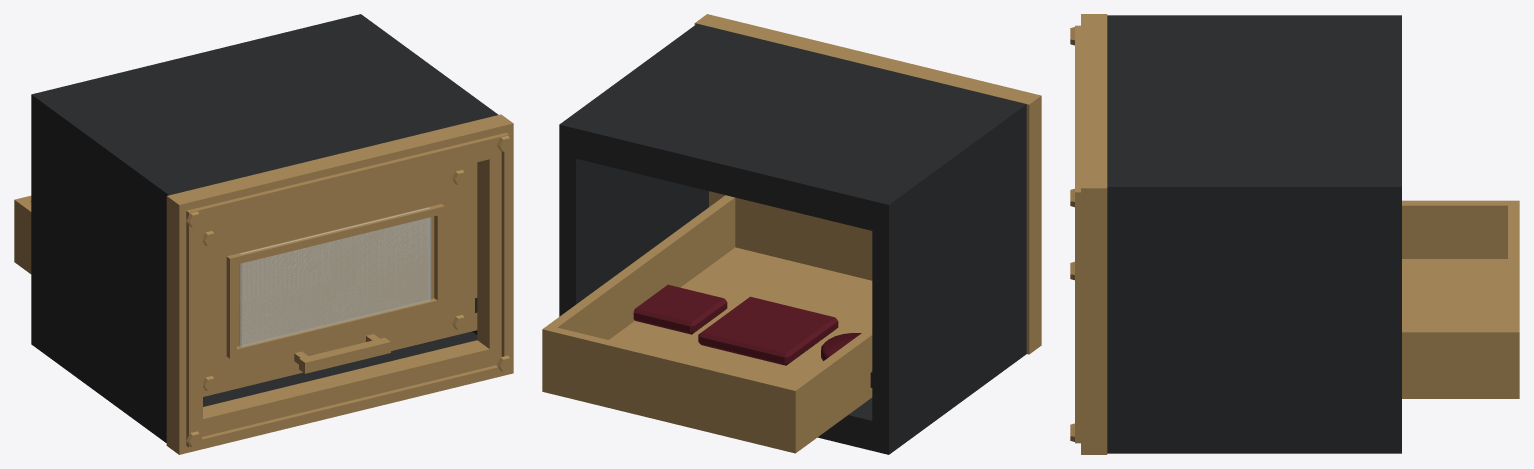
Rendered from heart_drawer.glb.
3 renders of one model, left to right at view 1: azimuth 30°, elevation 25°; view 2: azimuth 150°, elevation 25°; view 3: azimuth 270°, elevation 25°, orthographic. The views are drawn at different scales.
Visible parts, largest first — view 1: heart_housing, IA_heart_drawer, drawer_face; view 2: heart_housing, IA_heart_drawer, IA_heart_letter, IA_heart_pawl, IA_heart_watch; view 3: heart_housing, IA_heart_drawer.
Boxes of the visible parts, x1,y1,x2,y2 form: heart_housing: (31, 14, 513, 454); IA_heart_drawer: (14, 162, 477, 396); drawer_face: (239, 207, 431, 347); heart_housing: (559, 14, 1041, 454); IA_heart_drawer: (542, 191, 872, 453); IA_heart_letter: (698, 296, 838, 365); IA_heart_pawl: (633, 284, 727, 334); IA_heart_watch: (821, 333, 861, 360); heart_housing: (1070, 14, 1401, 454); IA_heart_drawer: (1402, 200, 1519, 398).
Size of the model in its own units: 0.7 by 0.5 by 0.763.
